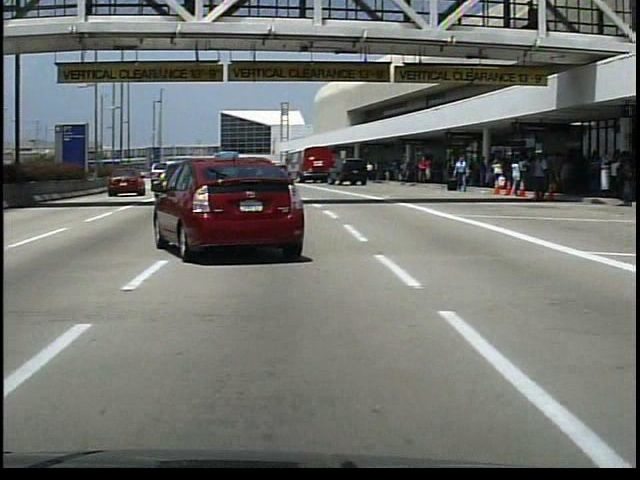person: (527, 153, 549, 205), (452, 155, 470, 194), (416, 156, 430, 184), (365, 163, 374, 181)
